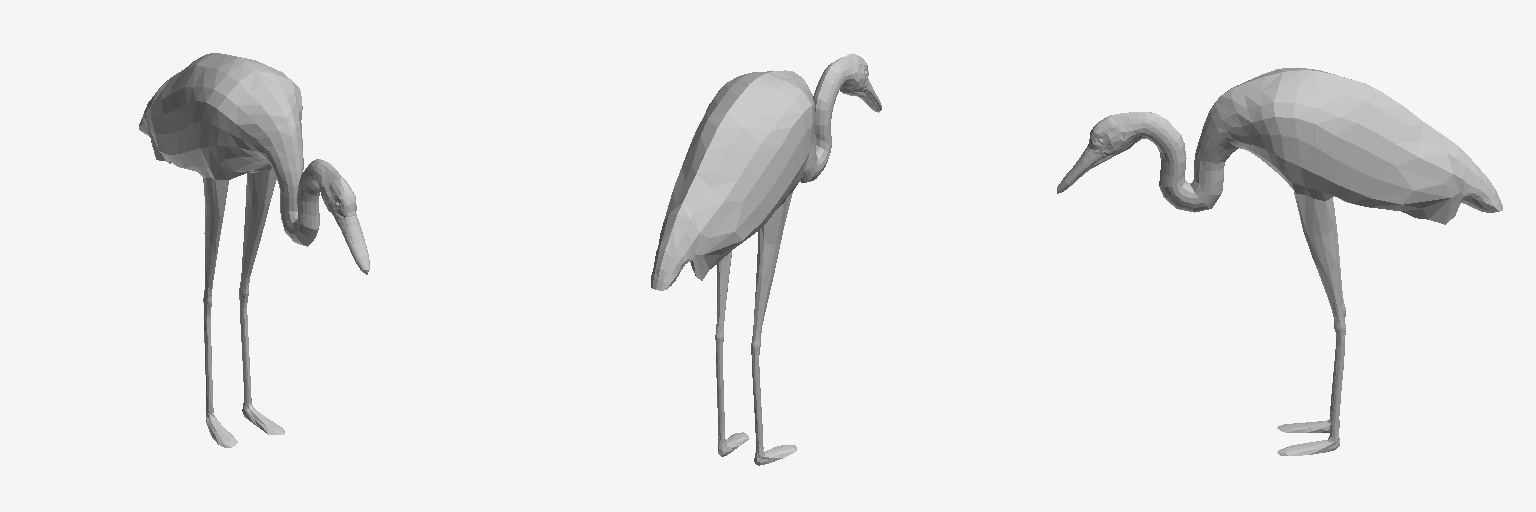
File: CRANE.OBJ
3 views of the same model, side by side, from view 1: azimuth 30°, elevation 25°; view 2: azimuth 150°, elevation 25°; view 3: azimuth 270°, elevation 25° (orthographic).
Visible parts, largest first — view 1: crn_body; view 2: crn_body; view 3: crn_body.
Boxes of the visible parts, x1=… form: crn_body: x1=139, y1=53, x2=369, y2=447; crn_body: x1=651, y1=53, x2=881, y2=465; crn_body: x1=1057, y1=68, x2=1502, y2=455.
Size of the model in its own units: 0.2954 by 1.14 by 1.25.